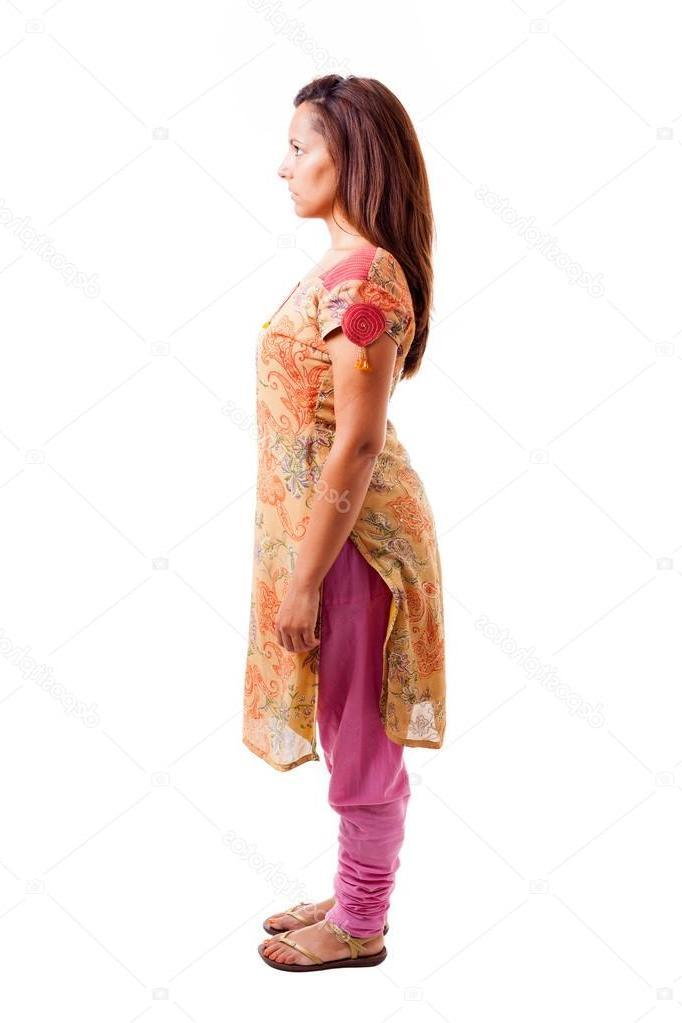Human: (231, 58, 446, 963)
